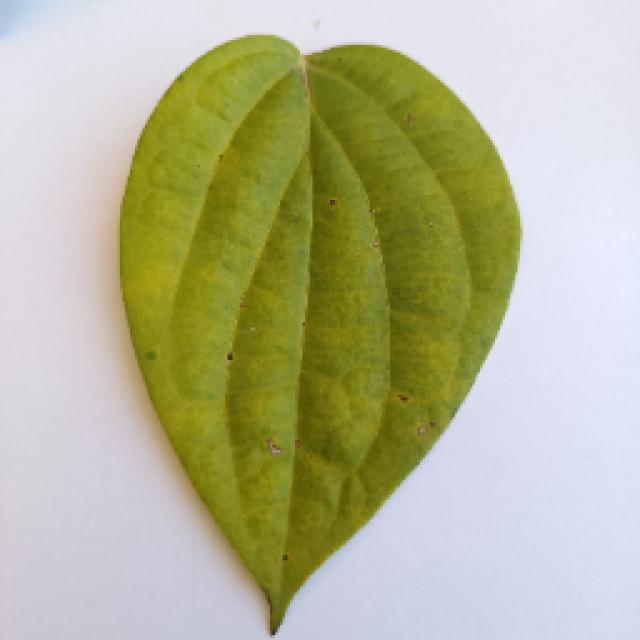slow-decline: (85, 42, 543, 630)
